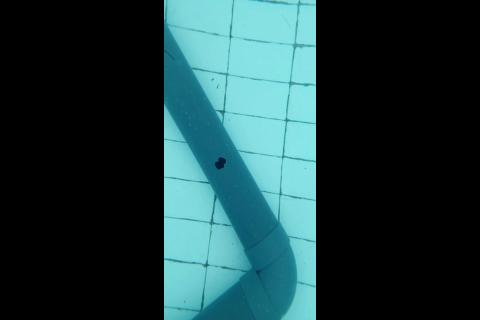kebocoran: (213, 155, 227, 171)
keretakan: (164, 49, 175, 62)
